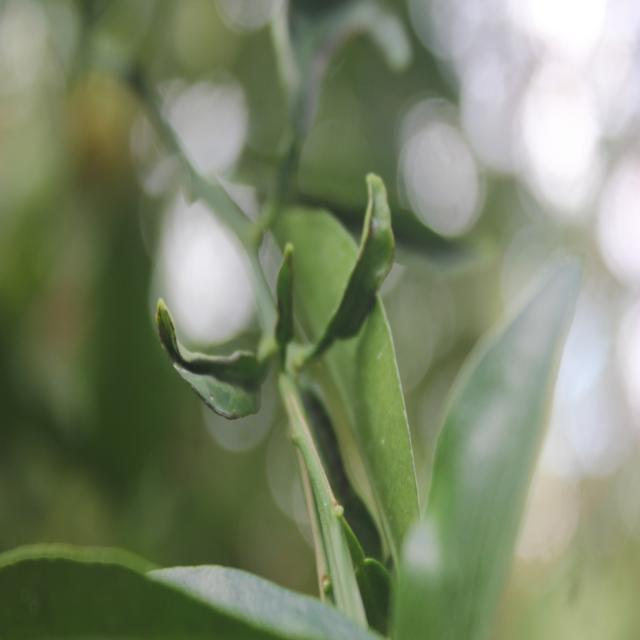canker: (158, 310, 270, 420), (350, 209, 392, 338)
